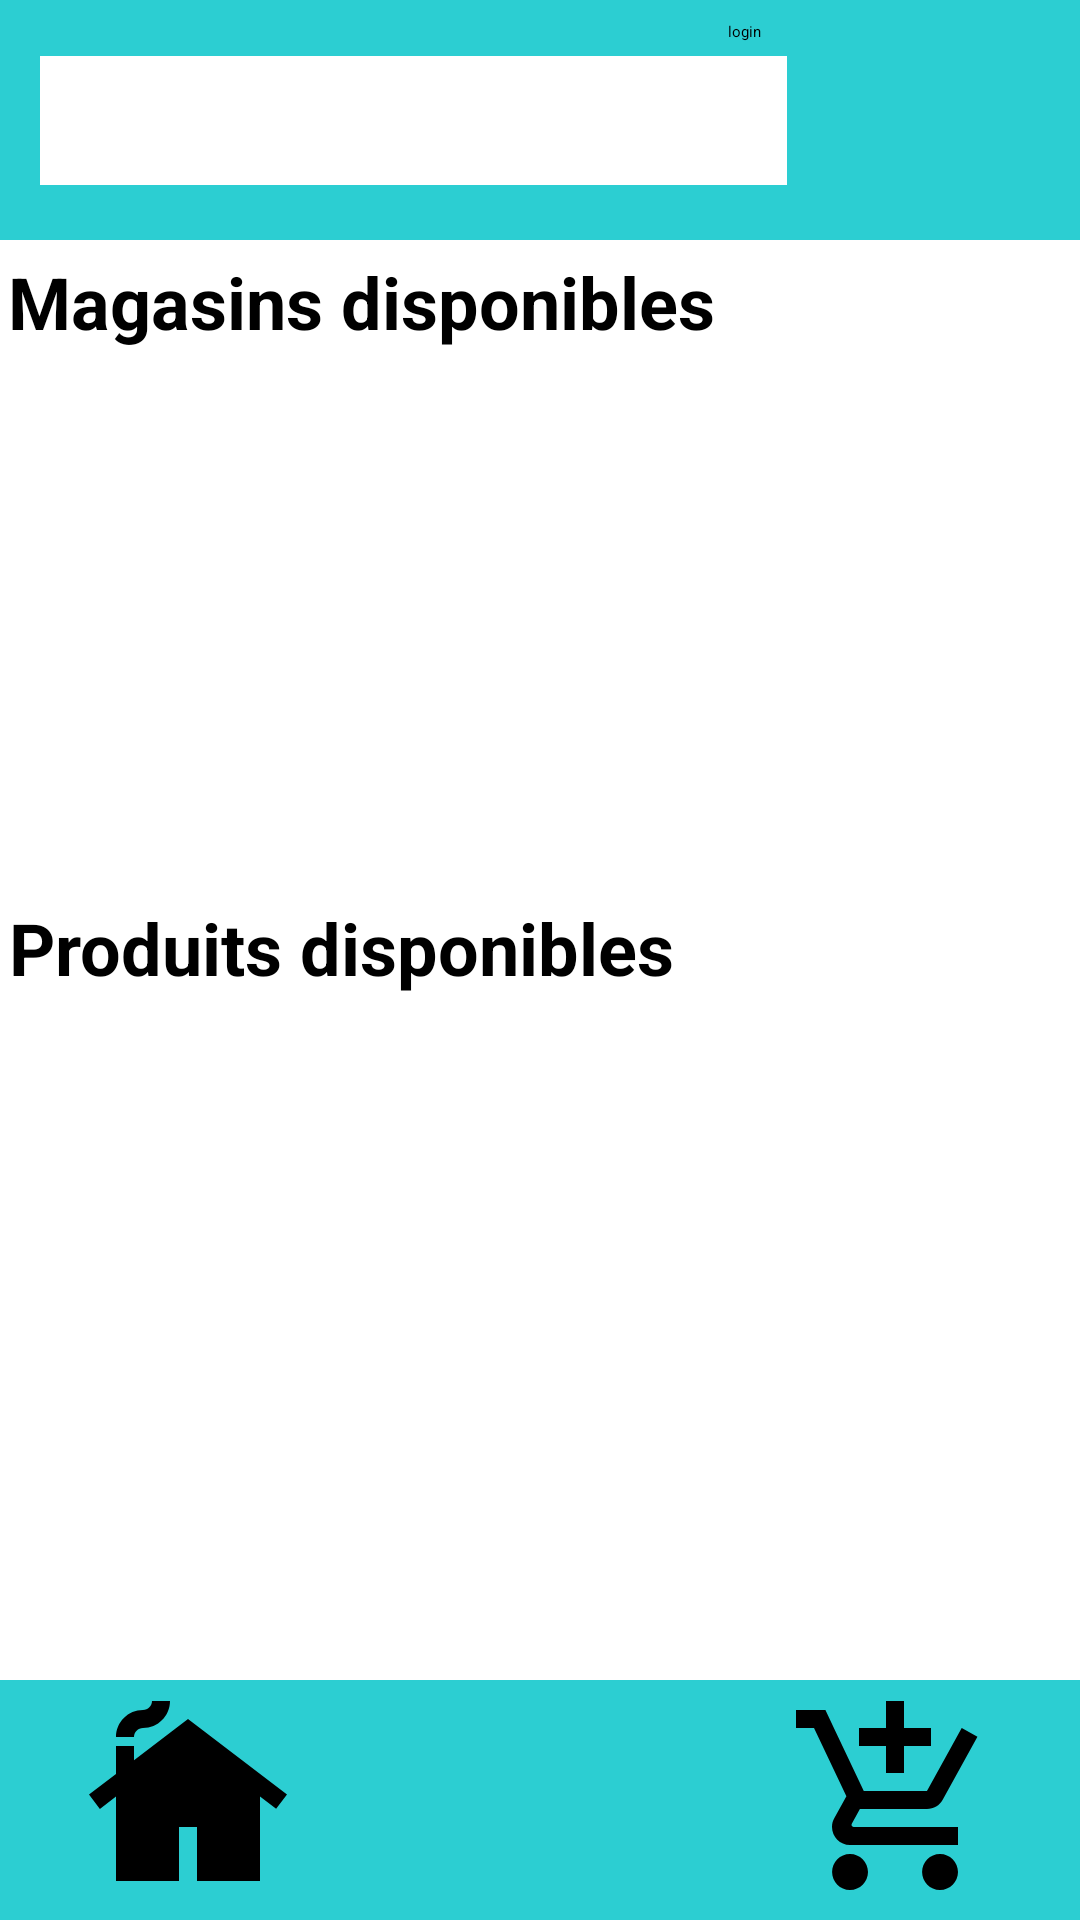

Icon bounding boxes for this 1080 × 1920 phone screenshot, format (x1, y1, x2, y2):
add shopping cart: (796, 1701, 978, 1890)
cottage: (89, 1701, 287, 1881)
